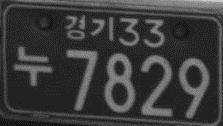2: (139, 53, 174, 118)
3: (143, 17, 165, 49), (118, 16, 139, 47)
7: (64, 48, 100, 111)
8: (103, 52, 137, 113)
9: (176, 57, 210, 119)
경기_O: (64, 15, 115, 42)
누: (13, 45, 53, 86)
